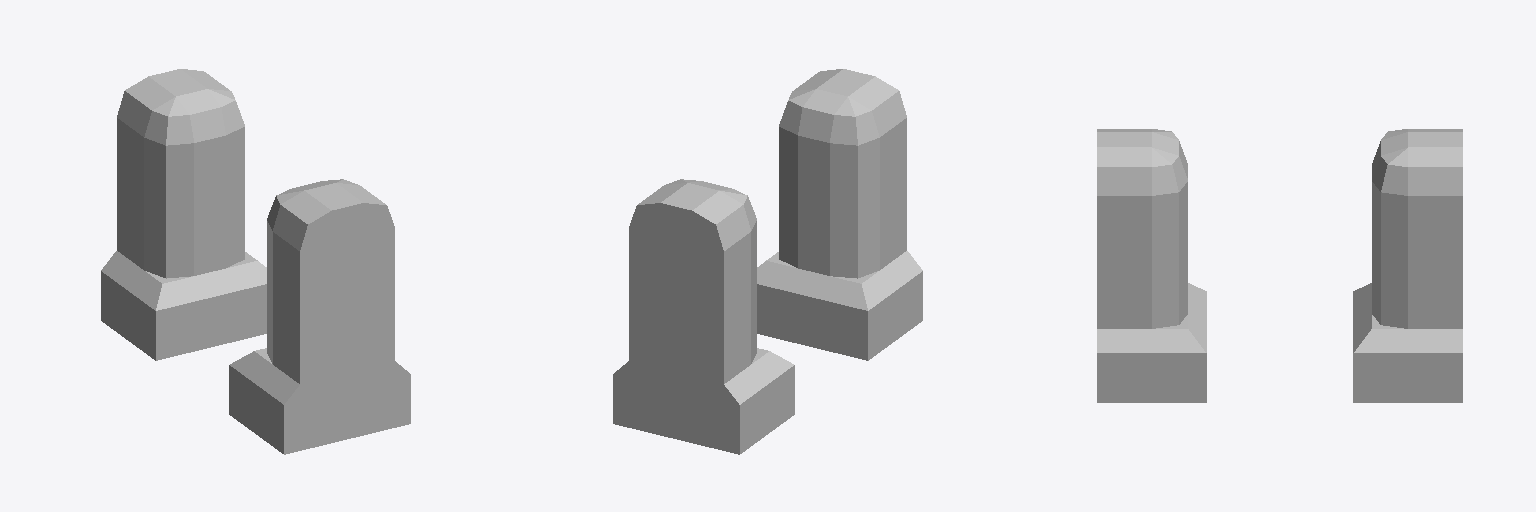
The model's file is hedgeLargeGate.obj.
3 views of the same model, side by side, from view 1: azimuth 30°, elevation 25°; view 2: azimuth 150°, elevation 25°; view 3: azimuth 270°, elevation 25° (orthographic).
Parts seen in each view (by area): view 1: hedgeLargeGate; view 2: hedgeLargeGate; view 3: hedgeLargeGate.
Part boxes in pixels (x1,y1,x2,y2): hedgeLargeGate: (101,69,410,454); hedgeLargeGate: (613,69,922,454); hedgeLargeGate: (1097,129,1462,402).
Size of the model in its own units: 0.4 by 0.7 by 1.